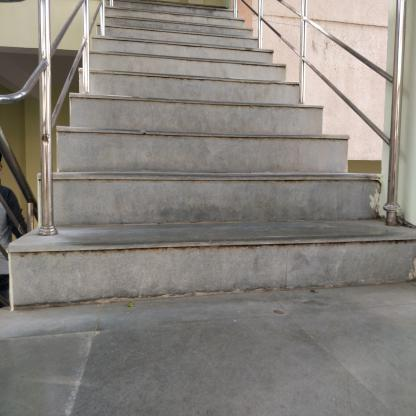stairs: (95, 60, 292, 318)
